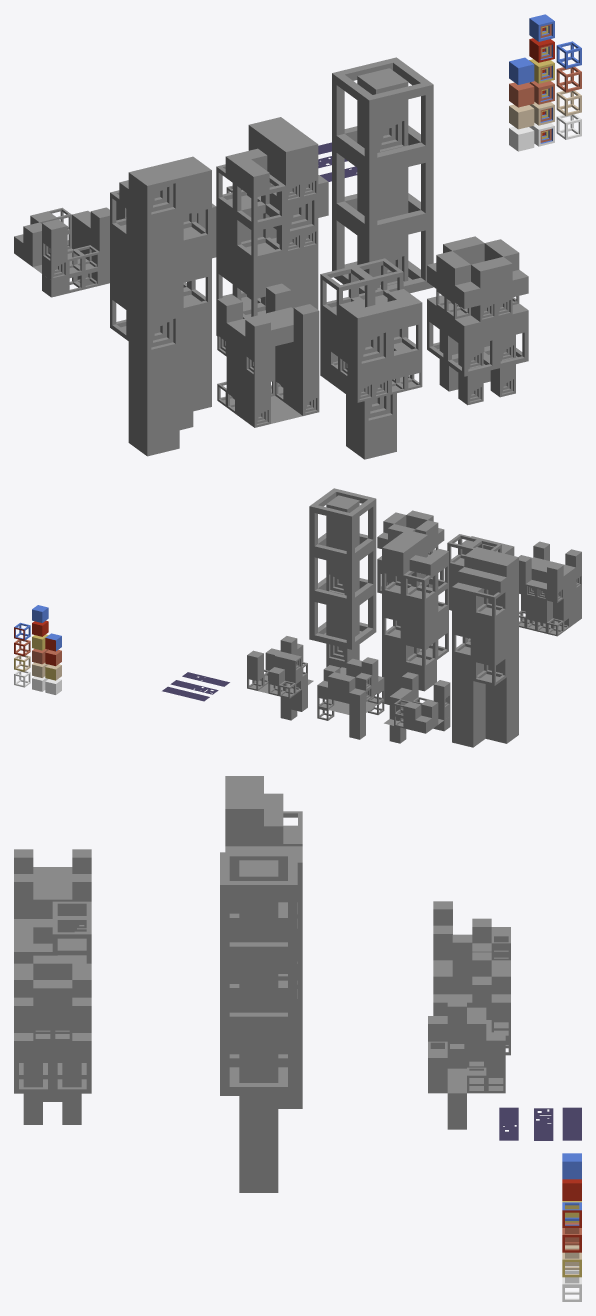
File: Base_buildings_collapsed.FBX
3 views of the same model, one above another, from view 1: azimuth 30°, elevation 25°; view 2: azimuth 150°, elevation 25°; view 3: azimuth 270°, elevation 25° (orthographic). The views are drawn at different scales.
Visible parts, largest first — view 1: HiRiseA001, HiRiseC001, HiRiseB001, MedRiseB001, MedRiseC001, MedRiseA001, LowRiseA001, Box_S_cl6_001, Box_cl4_001, LowRiseB001; view 2: HiRiseA001, HiRiseC001, HiRiseB001, MedRiseA001, LowRiseB001, LowRiseC001, LowRiseA001, MedRiseC001, MedRiseB001; view 3: HiRiseC001, MedRiseC001, LowRiseC001, LowRiseB001, MedRiseA001, HiRiseA001, HiRiseB001, MedRiseB001, LowRiseA001, RoadA001, RoadB001.
Boxes of the visible parts, x1,y1,x2,y2 form: HiRiseA001: (110,156,211,456); HiRiseC001: (332,57,433,338); HiRiseB001: (216,117,318,335); MedRiseB001: (320,258,422,459); MedRiseC001: (427,236,528,405); MedRiseA001: (217,283,319,427); LowRiseA001: (14,207,109,297); Box_S_cl6_001: (529,14,554,41); Box_cl4_001: (509,57,534,84); LowRiseB001: (116,201,216,258); HiRiseA001: (452,547,518,747); HiRiseC001: (309,488,376,700); HiRiseB001: (382,530,448,704); MedRiseA001: (519,541,581,636); LowRiseB001: (317,657,384,739); LowRiseC001: (247,636,313,720); LowRiseA001: (384,672,450,743); MedRiseC001: (377,510,444,593); MedRiseB001: (447,534,514,638); HiRiseC001: (220,852,297,1192); MedRiseC001: (14,955,91,1124); LowRiseC001: (428,998,505,1129); LowRiseB001: (433,934,510,1055); MedRiseA001: (14,849,91,932); HiRiseA001: (225,776,302,846); HiRiseB001: (225,846,302,1108); MedRiseB001: (14,901,91,1101); LowRiseA001: (433,901,510,960); RoadA001: (562,1107,581,1140); RoadB001: (499,1107,518,1140).
Bounding box in the file's own units: 36950 × 18000 × 29293.
